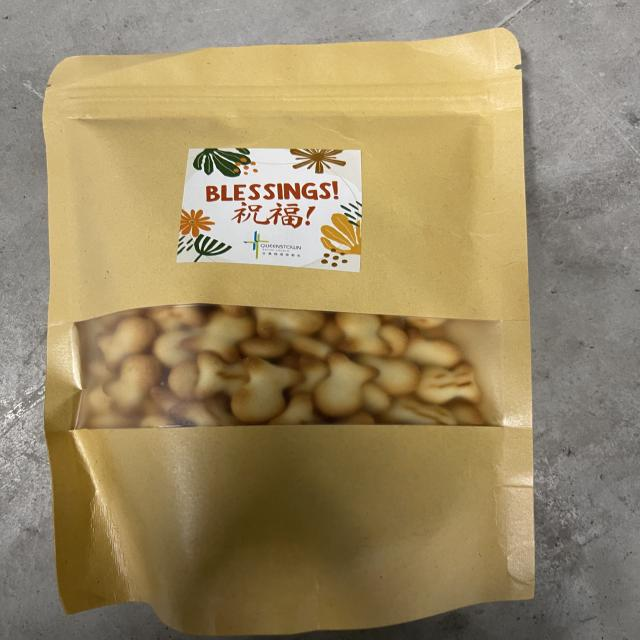object_name: (55, 56, 533, 612)
